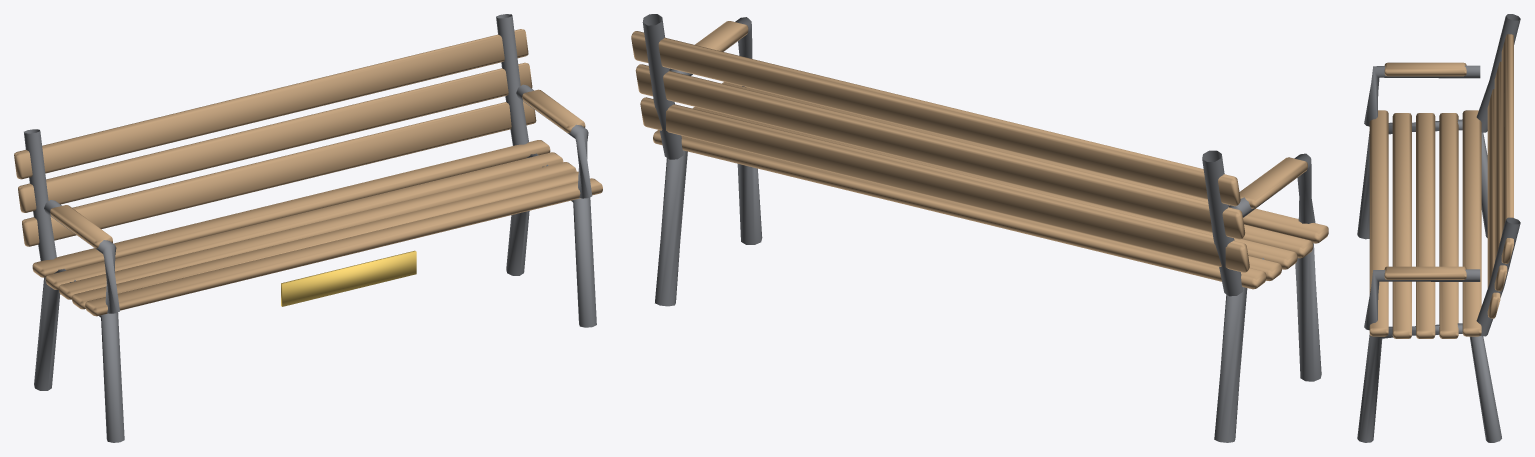
File: park_bench.glb
3 views of the same model, side by side, from view 1: azimuth 30°, elevation 25°; view 2: azimuth 150°, elevation 25°; view 3: azimuth 270°, elevation 25° (orthographic). The views are drawn at different scales.
Parts seen in each view (by area): view 1: Body; view 2: Body; view 3: Body.
Part boxes in pixels (left/top/right/bottom): Body: left=14, top=14, right=602, bottom=442; Body: left=631, top=14, right=1328, bottom=442; Body: left=1357, top=14, right=1520, bottom=442.
Size of the model in its own units: 1.9 by 0.8909 by 0.5972.
